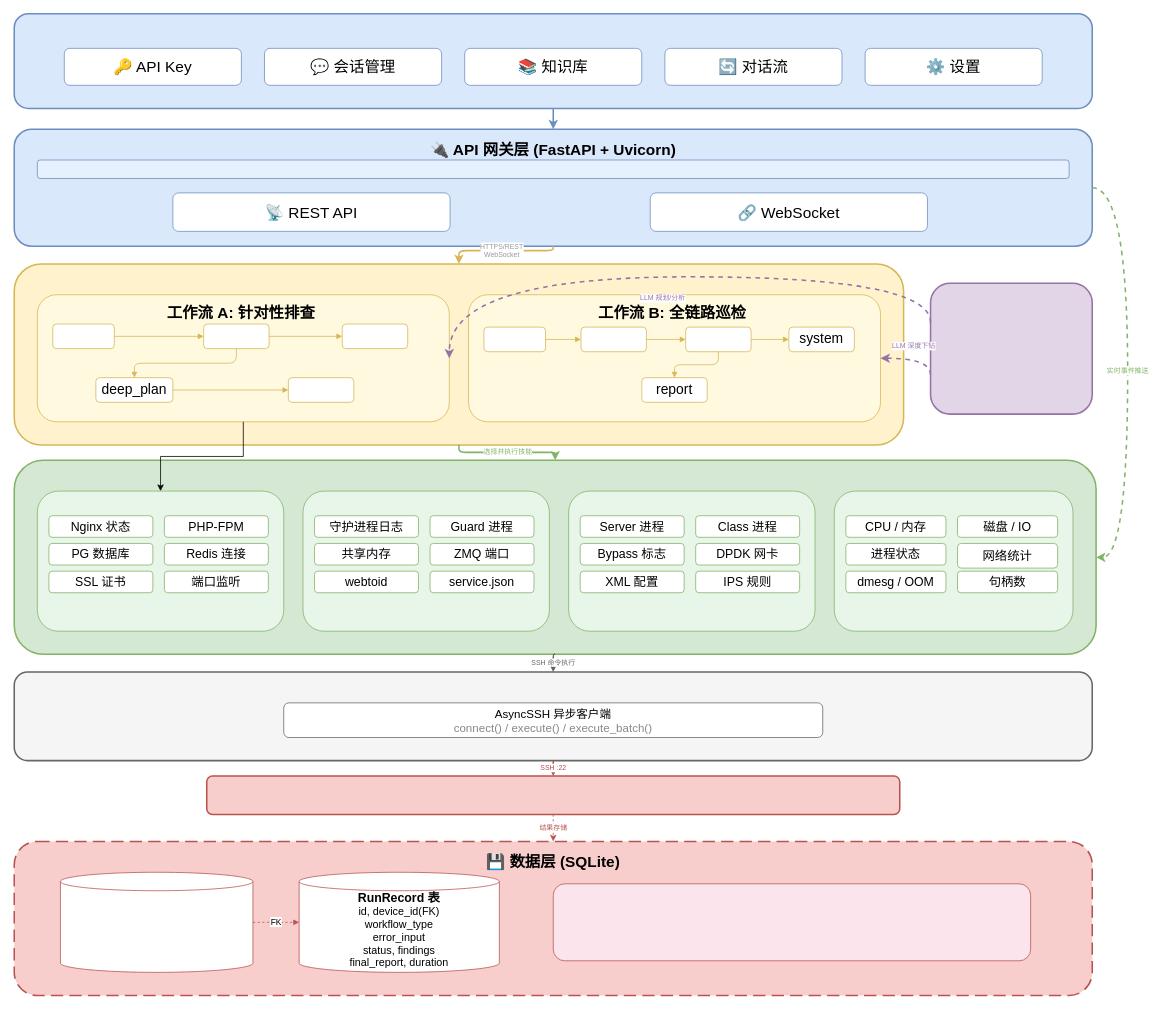
This 1161x1009 diagram has some shape labels left out. The shapes that lost their labels are listed below. From the top down, each one's box as (x1, y1, x2, y2) in pixels, then its label:
(13, 13, 1093, 109): 🖥️ 前端展示层 (Vue 3 SPA)
(37, 159, 1069, 178): 🔐 认证中间件: X-API-Key / WebSocket Token
(52, 323, 114, 349): plan
(203, 323, 269, 349): execute
(341, 323, 408, 349): evidence
(13, 263, 904, 445): 🧠 LangGraph 编排引擎
(483, 326, 546, 352): web
(580, 326, 646, 352): python
(685, 326, 751, 352): engine
(929, 282, 1093, 414): 🤖 DeepSeek V4-Flash LangChain ChatOpenAI 温度 0.0, max 4096 tokens
(288, 377, 354, 402): validate
(37, 490, 284, 631): 🌐 Web 层
(302, 490, 549, 631): 🐍 Python 层
(13, 459, 1096, 655): 🔧 技能层
(568, 490, 815, 631): ⚙️ Engine 层
(834, 490, 1073, 631): 🖥️ 系统资源层 (15 技能)
(13, 671, 1093, 761): 📡 SSH 传输层
(206, 775, 900, 815): 🎯 目标: 绿盟 IDS/IPS 设备 (Linux)
(60, 871, 253, 972): Device 表 id, name, host port, username password (Fernet) created_at / updated_at
(552, 883, 1031, 961): 🔐 Fernet 加密 (AES-128-CBC + HMAC-SHA256) 密码存储格式: enc:xxxxxxxxxxxxxxxxxxxxxxxxxxxx
